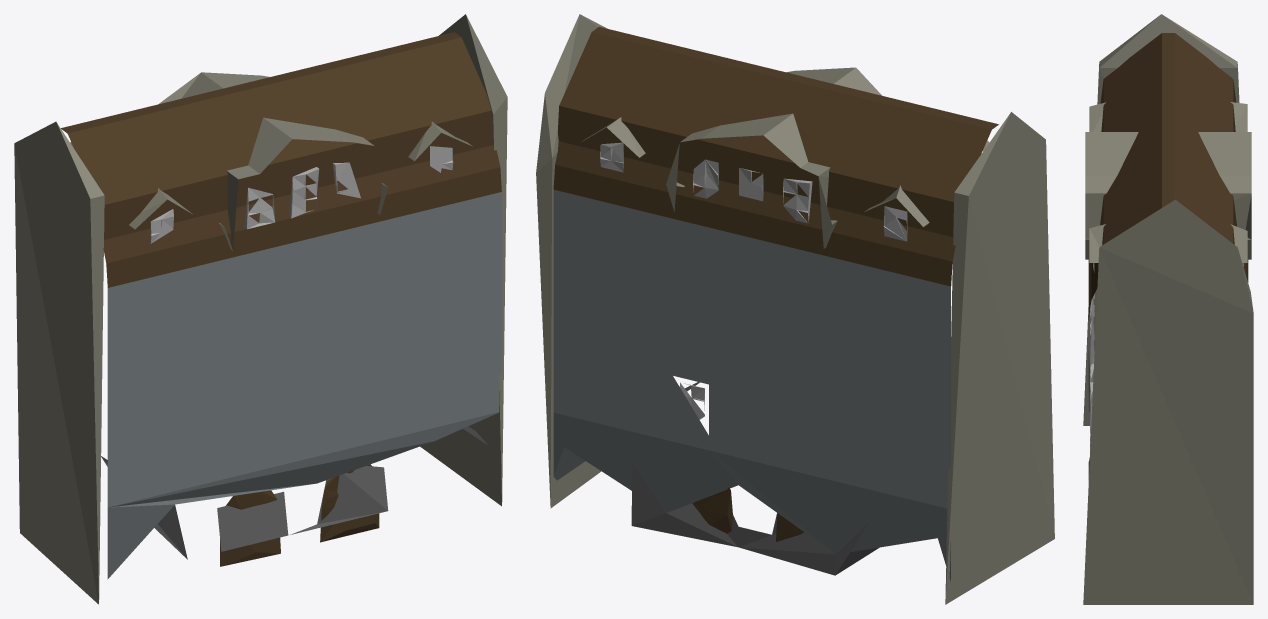
Rendered from Building2_Large_lod.glb.
The picture shows the model from 3 angles, left to right: view 1: azimuth 30°, elevation 25°; view 2: azimuth 150°, elevation 25°; view 3: azimuth 270°, elevation 25°; orthographic projection. The views are drawn at different scales.
Parts seen in each view (by area): view 1: Building2_Large; view 2: Building2_Large; view 3: Building2_Large.
Part boxes in pixels (x1,y1,x2,y2): Building2_Large: [14, 14, 507, 604]; Building2_Large: [536, 14, 1054, 604]; Building2_Large: [1083, 14, 1253, 604].
Size of the model in its own units: 5.72 by 5.92 by 2.22.
